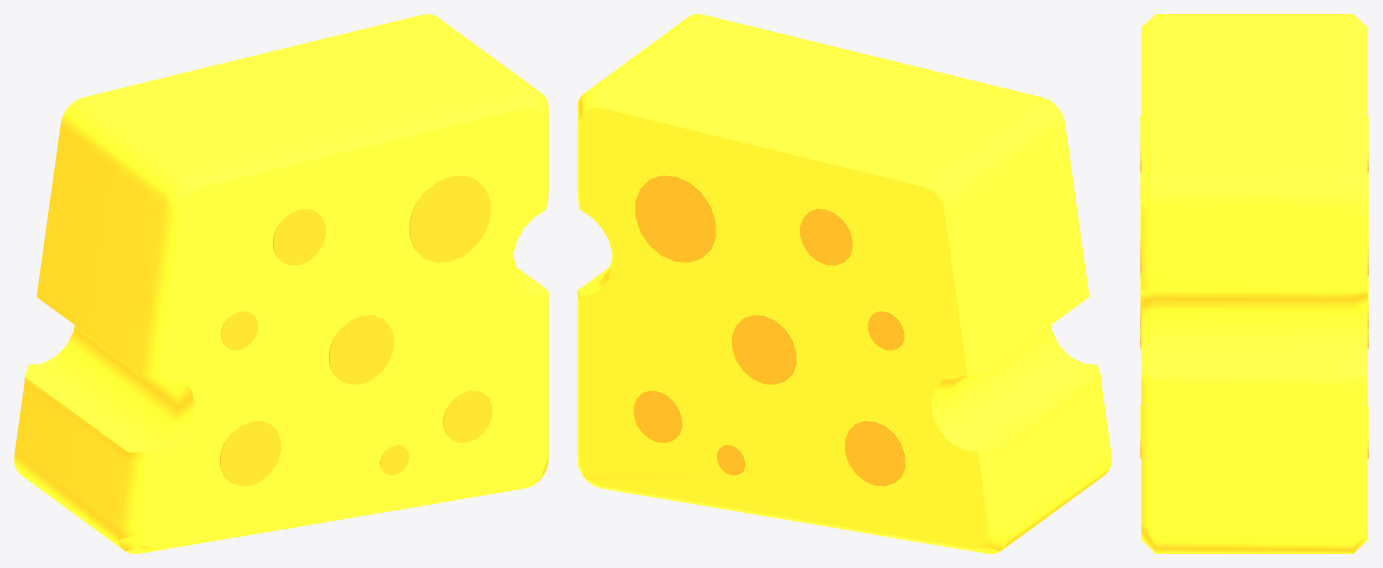
3 renders of one model, left to right at view 1: azimuth 30°, elevation 25°; view 2: azimuth 150°, elevation 25°; view 3: azimuth 270°, elevation 25°, orthographic. The views are drawn at different scales.
Parts seen in each view (by area): view 1: Cheese-whole; view 2: Cheese-whole; view 3: Cheese-whole.
Boxes of the visible parts, x1,y1,x2,y2 form: Cheese-whole: (14, 14, 548, 553); Cheese-whole: (577, 14, 1111, 553); Cheese-whole: (1140, 14, 1368, 553).
Size of the model in its own units: 0.8864 by 0.7818 by 0.4273.
